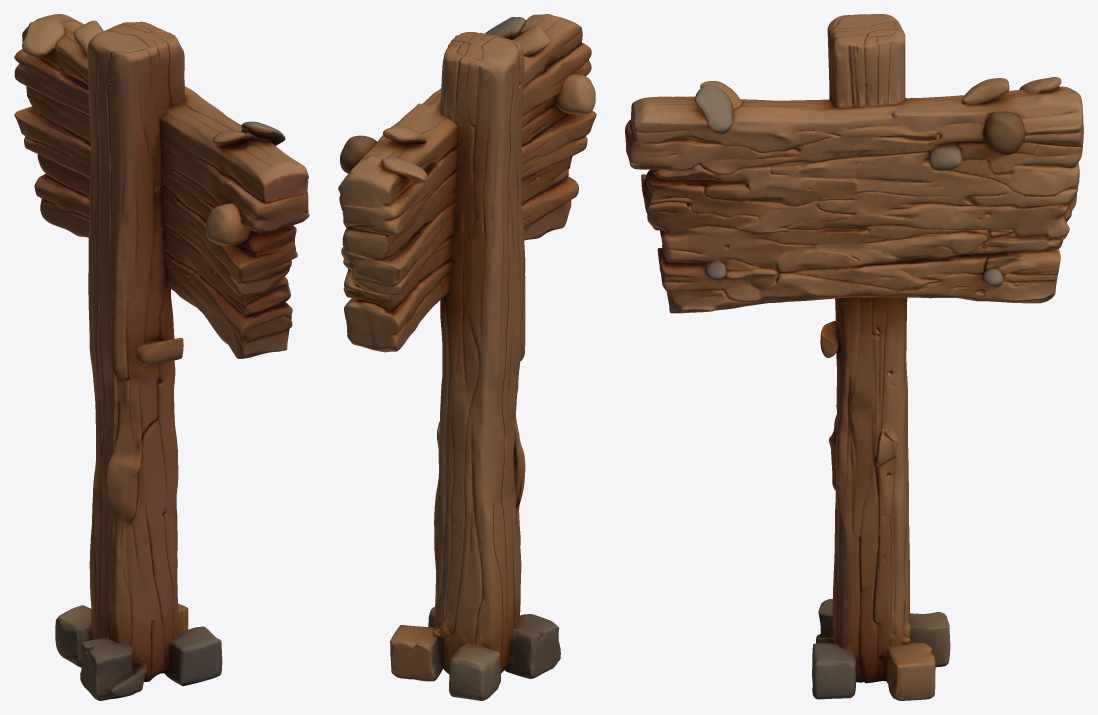
The model's file is signpost.opt.glb.
The picture shows the model from 3 angles, left to right: view 1: azimuth 30°, elevation 25°; view 2: azimuth 150°, elevation 25°; view 3: azimuth 270°, elevation 25°; orthographic projection. The views are drawn at different scales.
Visible parts, largest first — view 1: tripo_node_860693ab-854c-450f-bf35-0aefea6b693f; view 2: tripo_node_860693ab-854c-450f-bf35-0aefea6b693f; view 3: tripo_node_860693ab-854c-450f-bf35-0aefea6b693f.
Part boxes in pixels (x1=…): tripo_node_860693ab-854c-450f-bf35-0aefea6b693f: x1=14, y1=14, x2=309, y2=700; tripo_node_860693ab-854c-450f-bf35-0aefea6b693f: x1=338, y1=14, x2=596, y2=700; tripo_node_860693ab-854c-450f-bf35-0aefea6b693f: x1=625, y1=14, x2=1083, y2=700.
Bounding box in the file's own units: 0.2236 × 1 × 0.6446.
1 material, 1 textured.
